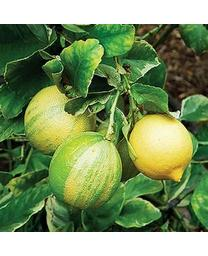lemon: (50, 131, 122, 209), (23, 83, 93, 155), (129, 113, 193, 181)
